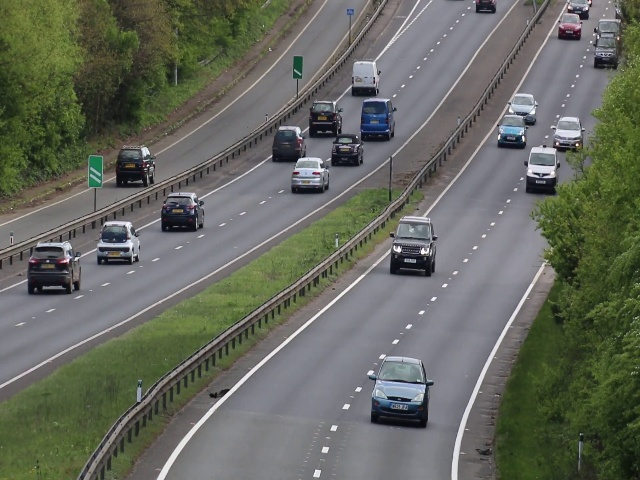car: (370, 358, 429, 425), (27, 245, 84, 295), (388, 216, 434, 276), (97, 221, 141, 263), (161, 193, 206, 233), (358, 96, 397, 140), (114, 145, 156, 184), (525, 147, 558, 190), (291, 158, 328, 194), (308, 99, 342, 135), (553, 114, 584, 151), (350, 60, 381, 94), (273, 125, 304, 158), (330, 135, 364, 165), (498, 116, 525, 149), (595, 34, 617, 66), (510, 94, 537, 119), (559, 15, 580, 39)
